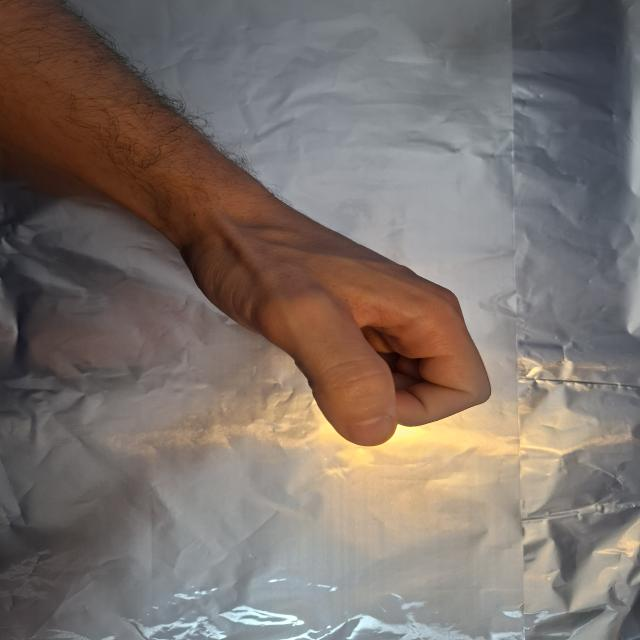glove_off: (170, 200, 494, 448)
